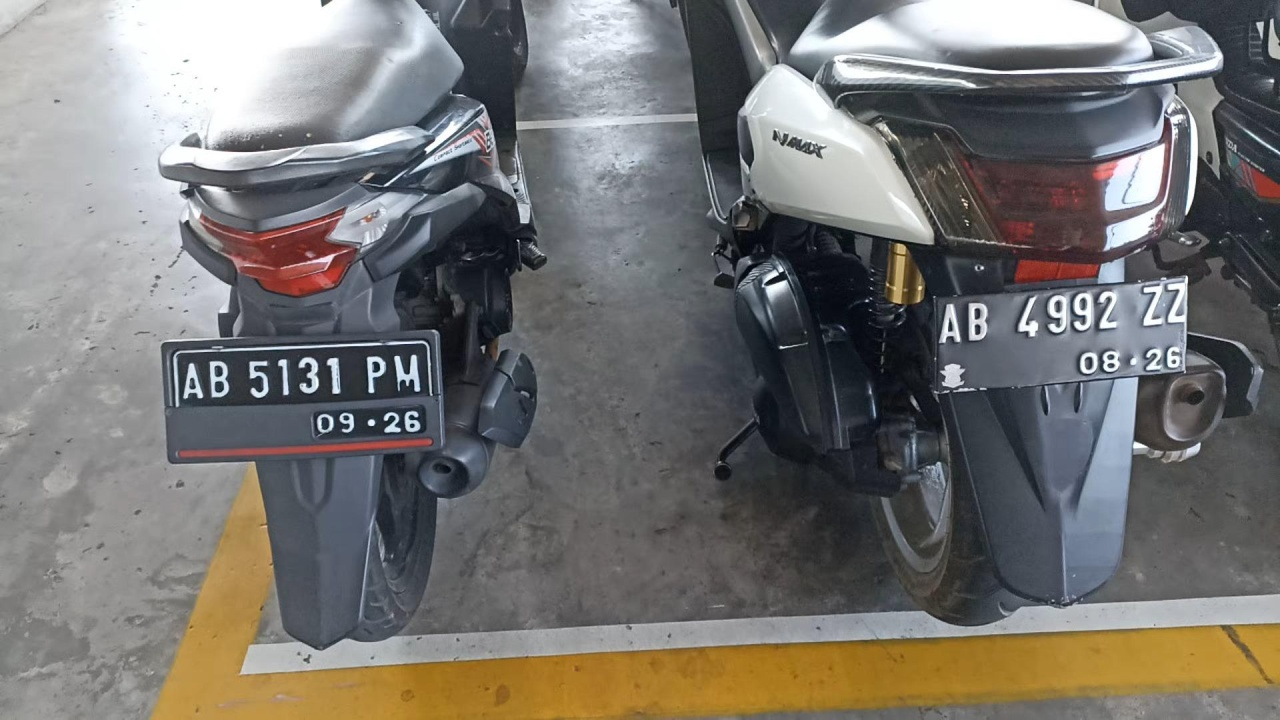plate: (165, 334, 443, 460), (938, 277, 1187, 393)
